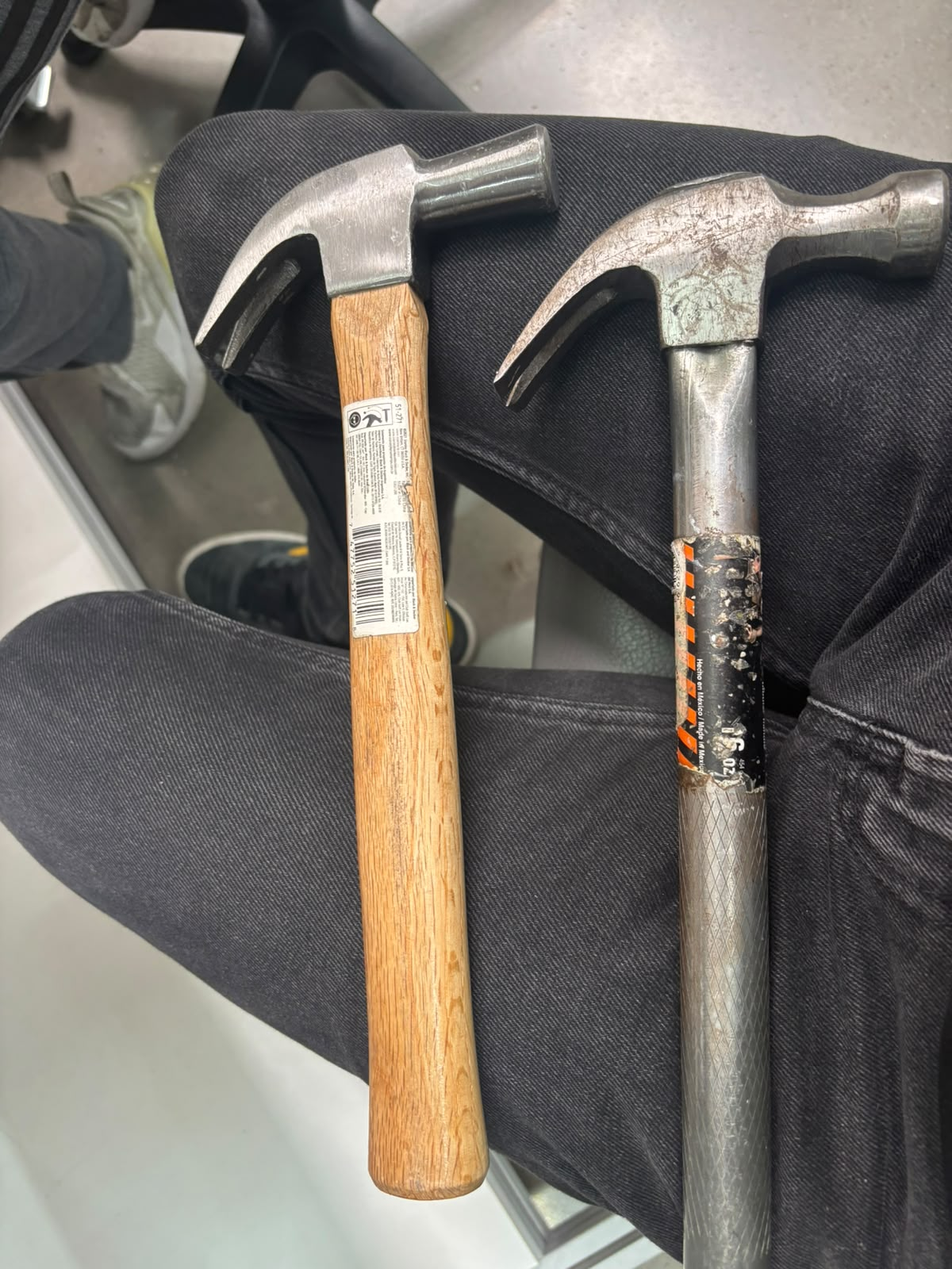hammer: (122, 90, 563, 1195), (542, 102, 952, 1269)
